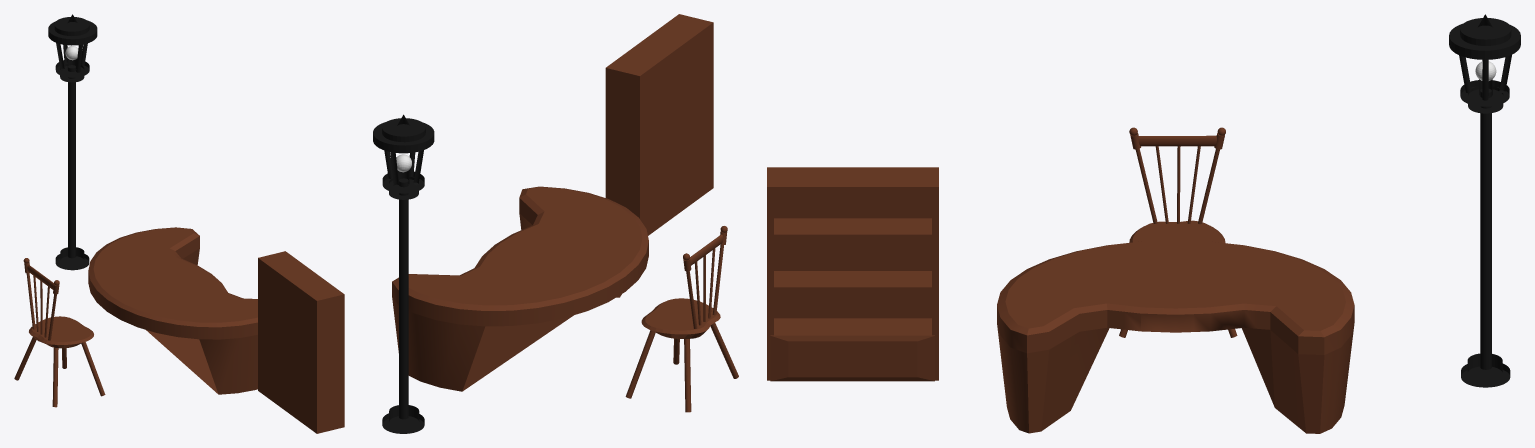
Rendered from Mueblesss.fbx.
The picture shows the model from 3 angles, left to right: view 1: azimuth 30°, elevation 25°; view 2: azimuth 150°, elevation 25°; view 3: azimuth 270°, elevation 25°; orthographic projection. The views are drawn at different scales.
Visible parts, largest first — view 1: Cylinder, Cube.004, Cylinder.005, Cylinder.001; view 2: Cylinder, Cube.004, Cylinder.005, Cylinder.001; view 3: Cylinder, Cube.004, Cylinder.005, Cylinder.001.
Part boxes in pixels (bbox=[...]): Cylinder: bbox=[88, 227, 257, 394]; Cube.004: bbox=[258, 251, 344, 433]; Cylinder.005: bbox=[48, 14, 97, 270]; Cylinder.001: bbox=[14, 258, 105, 407]; Cylinder: bbox=[392, 186, 648, 391]; Cube.004: bbox=[605, 14, 713, 235]; Cylinder.005: bbox=[373, 114, 434, 433]; Cylinder.001: bbox=[625, 226, 738, 412]; Cylinder: bbox=[997, 240, 1354, 433]; Cube.004: bbox=[767, 167, 938, 381]; Cylinder.005: bbox=[1449, 14, 1520, 387]; Cylinder.001: bbox=[1119, 127, 1237, 337].
Size of the model in its own units: 919 by 1129 by 1973.
